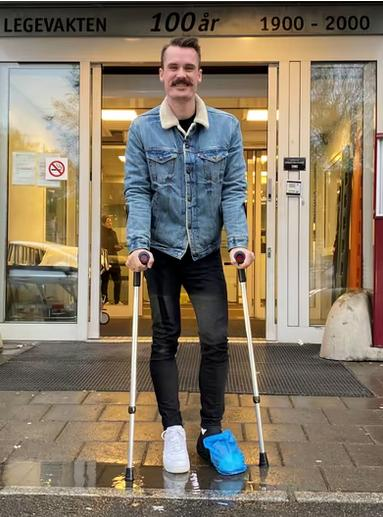crutches: (124, 36, 269, 481)
